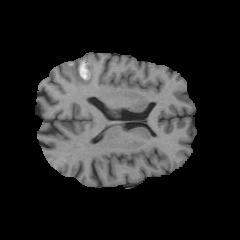glioma: (60, 54, 93, 86)
